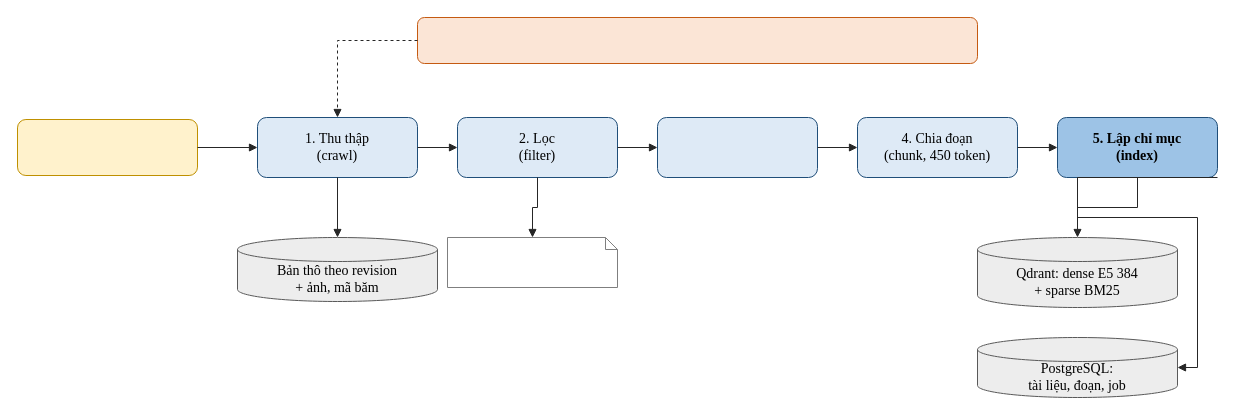
Image size: 1243x415. Some labels were removed from this diagram. The shapes that lost their labels are listed below. From the top down, each one's centre as x and y in pixels, then its label:
At (x=697, y=40): "ingest update: recentchanges → chỉ dựng lại trang có revision mới".
At (x=107, y=147): "eldenring.wiki.gg MediaWiki API".
At (x=737, y=147): "3. Biến đổi (transform)".
At (x=532, y=262): "decisions.jsonl (giữ/bỏ + lý do)".
